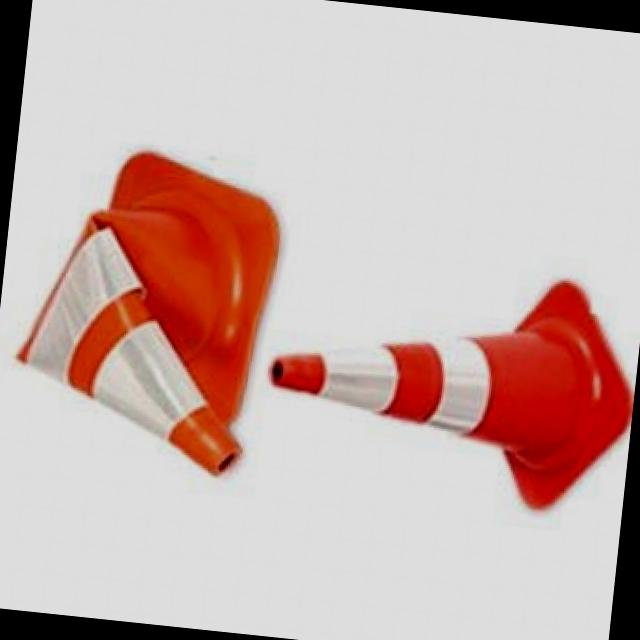cone: (255, 245, 623, 506)
